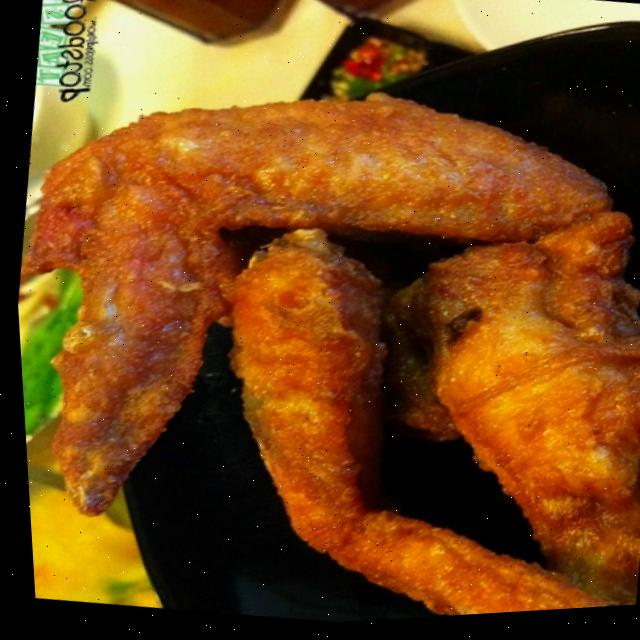鸡肉料理 含炸鸡: (2, 10, 640, 640)
